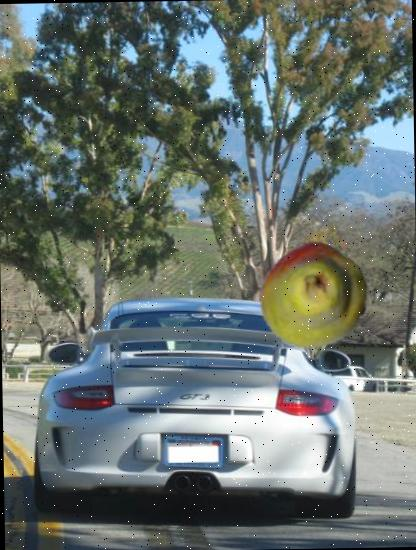Pear: (258, 240, 370, 353)
